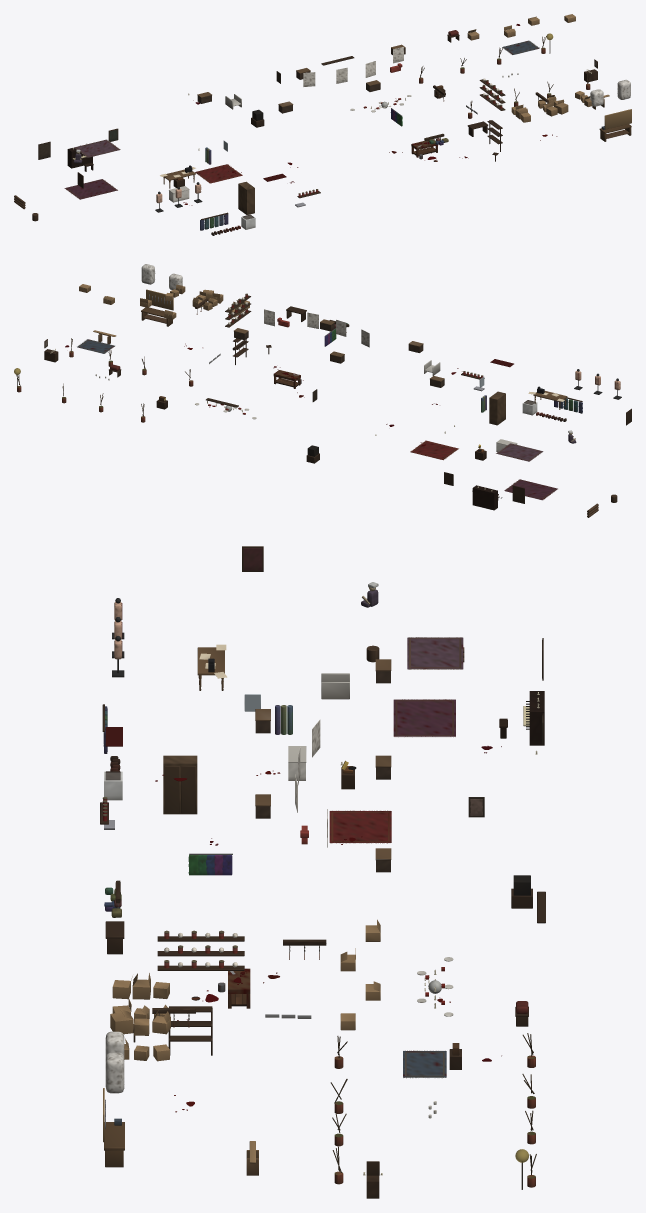
Rendered from FarmhouseFurnish.glb.
3 renders of one model, top to bottom at view 1: azimuth 30°, elevation 25°; view 2: azimuth 150°, elevation 25°; view 3: azimuth 270°, elevation 25°, orthographic. The views are drawn at different scales.
Visible parts, largest first — view 1: FarmhouseFurnish_hs_wood, FarmhouseFurnish_hs_cloth, FarmhouseFurnish_hs_rug, FarmhouseFurnish_hs_cardboard, FarmhouseFurnish_hs_metal, FarmhouseFurnish_hs_plastic, FarmhouseFurnish_hs_leather; view 2: FarmhouseFurnish_hs_wood, FarmhouseFurnish_hs_rug, FarmhouseFurnish_hs_cloth, FarmhouseFurnish_hs_metal, FarmhouseFurnish_hs_cardboard, FarmhouseFurnish_hs_plastic, FarmhouseFurnish_hs_leather; view 3: FarmhouseFurnish_hs_wood, FarmhouseFurnish_hs_rug, FarmhouseFurnish_hs_cloth, FarmhouseFurnish_hs_cardboard, FarmhouseFurnish_hs_metal, FarmhouseFurnish_hs_plastic, FarmhouseFurnish_hs_slate, FarmhouseFurnish_hs_blood.
Part boxes in pixels (x1,y1,x2,y2): FarmhouseFurnish_hs_wood: [14, 34, 631, 221]; FarmhouseFurnish_hs_cloth: [39, 47, 630, 230]; FarmhouseFurnish_hs_rug: [64, 40, 539, 199]; FarmhouseFurnish_hs_cardboard: [467, 14, 592, 122]; FarmhouseFurnish_hs_metal: [155, 40, 604, 229]; FarmhouseFurnish_hs_plastic: [68, 69, 591, 177]; FarmhouseFurnish_hs_leather: [84, 30, 458, 235]; FarmhouseFurnish_hs_wood: [16, 289, 631, 517]; FarmhouseFurnish_hs_rug: [77, 339, 557, 500]; FarmhouseFurnish_hs_cloth: [45, 264, 582, 443]; FarmhouseFurnish_hs_metal: [17, 293, 621, 452]; FarmhouseFurnish_hs_cardboard: [79, 284, 249, 319]; FarmhouseFurnish_hs_plastic: [50, 297, 617, 498]; FarmhouseFurnish_hs_leather: [110, 364, 620, 495]; FarmhouseFurnish_hs_wood: [100, 546, 545, 1198]; FarmhouseFurnish_hs_rug: [329, 637, 463, 1078]; FarmhouseFurnish_hs_cloth: [103, 548, 542, 1093]; FarmhouseFurnish_hs_cardboard: [110, 919, 380, 1061]; FarmhouseFurnish_hs_metal: [102, 598, 522, 1189]; FarmhouseFurnish_hs_plastic: [121, 586, 539, 1175]; FarmhouseFurnish_hs_slate: [334, 1055, 535, 1187]; FarmhouseFurnish_hs_blood: [105, 727, 501, 1112].
Bounding box in the file's own units: 209 × 33.5 × 71.7.
